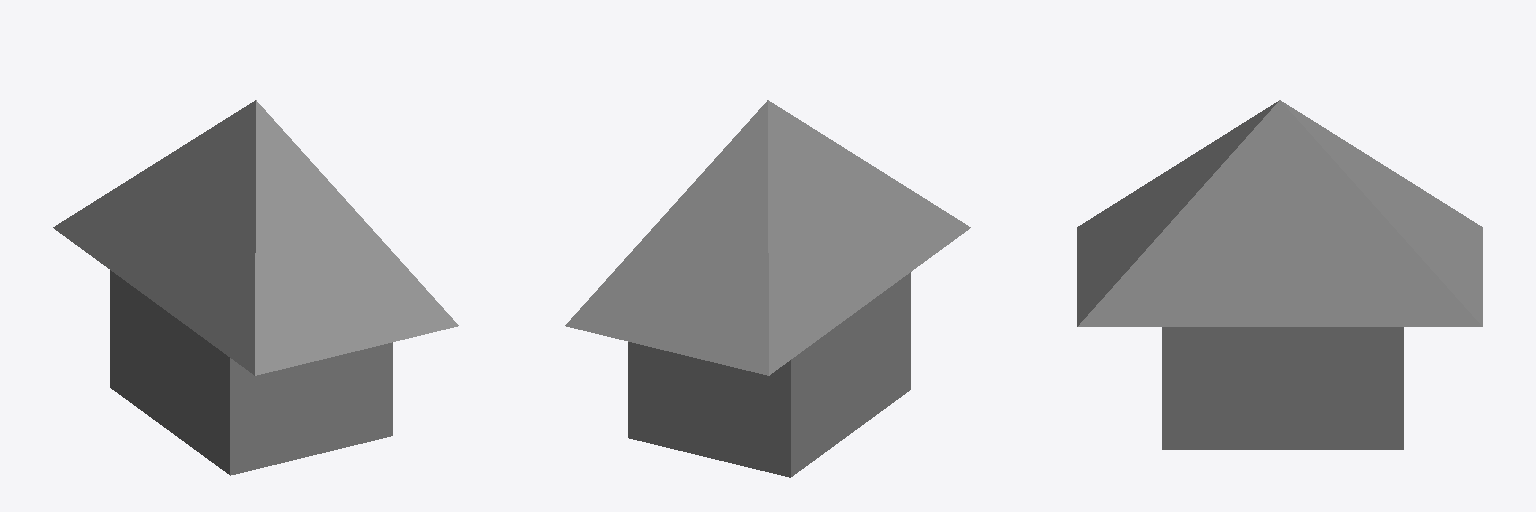
The model's file is micasa.obj.
3 renders of one model, left to right at view 1: azimuth 30°, elevation 25°; view 2: azimuth 150°, elevation 25°; view 3: azimuth 270°, elevation 25°, orthographic.
Visible parts, largest first — view 1: Pyramid001, Box001; view 2: Pyramid001, Box001; view 3: Pyramid001, Box001.
Part boxes in pixels (x1,y1,x2,y2): Pyramid001: (53, 100, 458, 375); Box001: (110, 270, 392, 475); Pyramid001: (565, 100, 970, 375); Box001: (628, 272, 910, 477); Pyramid001: (1077, 100, 1482, 326); Box001: (1162, 327, 1403, 449).
Bounding box in the file's own units: 64.84 × 94.65 × 111.